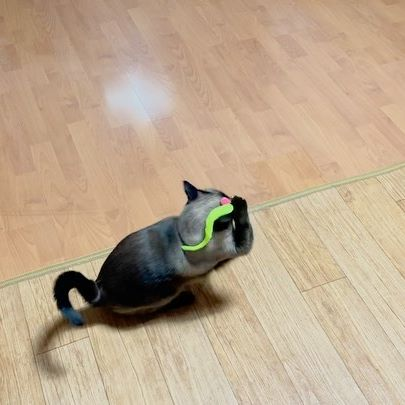cat: (180, 181, 238, 247)
